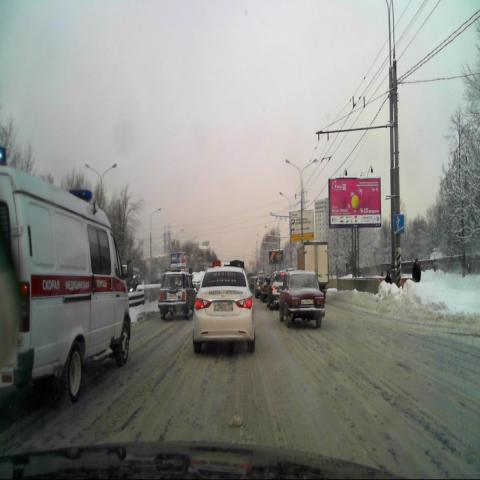6_6: (392, 213, 405, 235)
